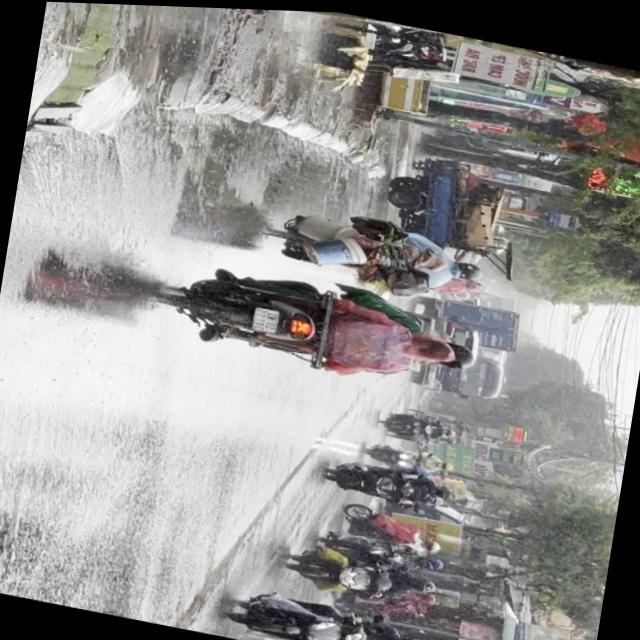helmet: (407, 328, 458, 365), (446, 340, 478, 368), (455, 258, 487, 281), (398, 632, 432, 640)
licenseplate: (141, 248, 487, 399), (217, 579, 438, 640)
nohelmet: (253, 304, 281, 333)
